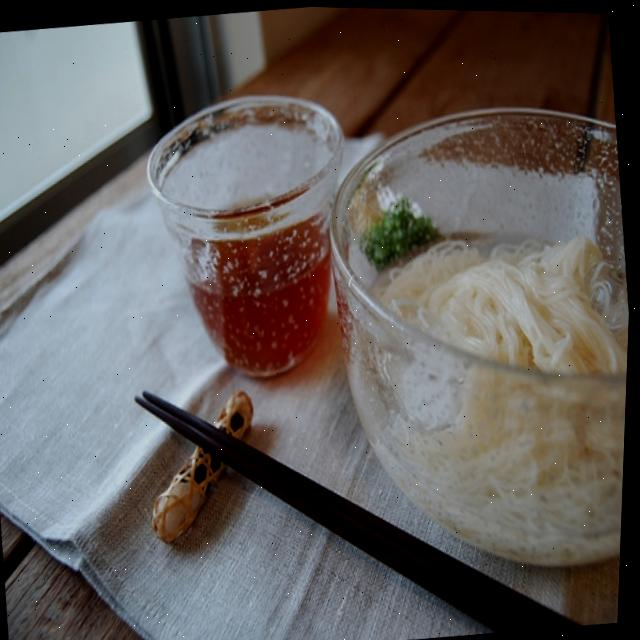面条主食: (308, 60, 638, 583)
